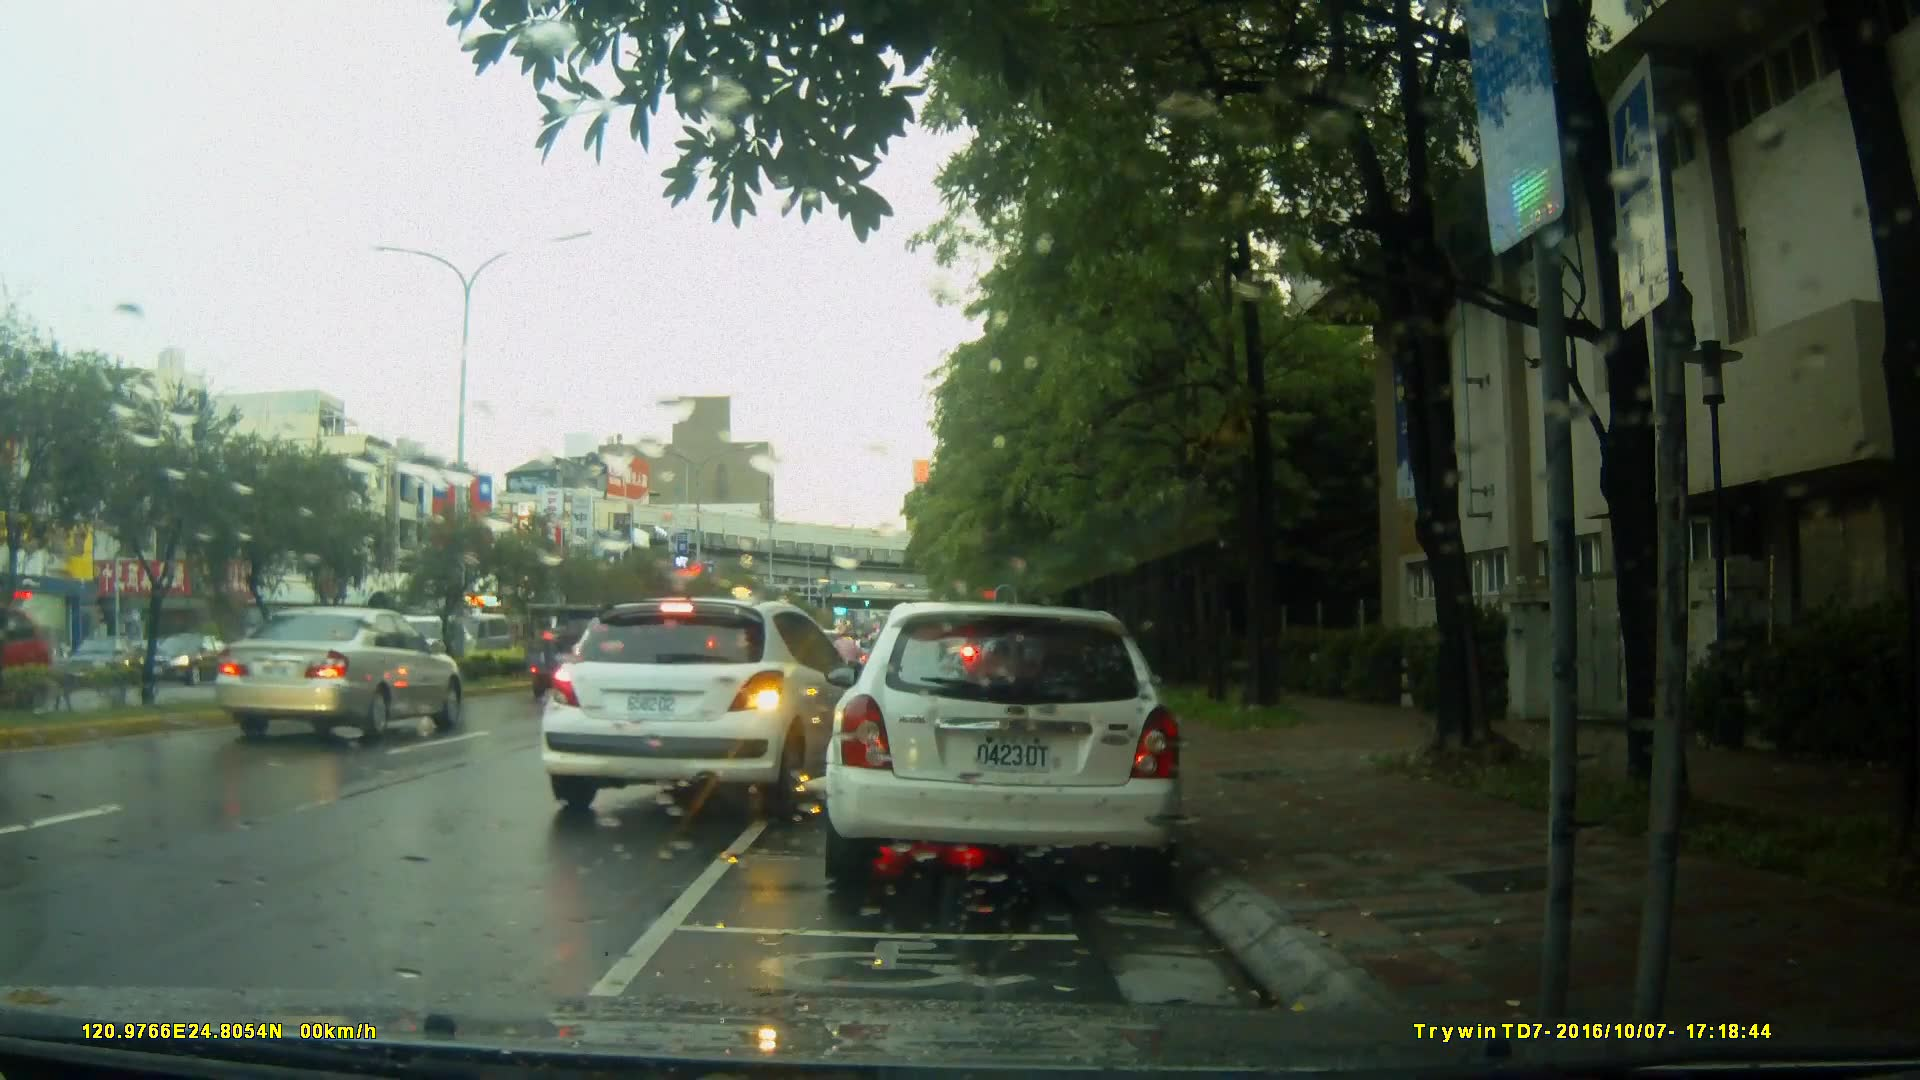rider: (830, 617, 861, 705)
vehicle: (820, 602, 1188, 898), (543, 595, 885, 820), (212, 605, 468, 743), (1, 604, 53, 722), (134, 634, 239, 689)
